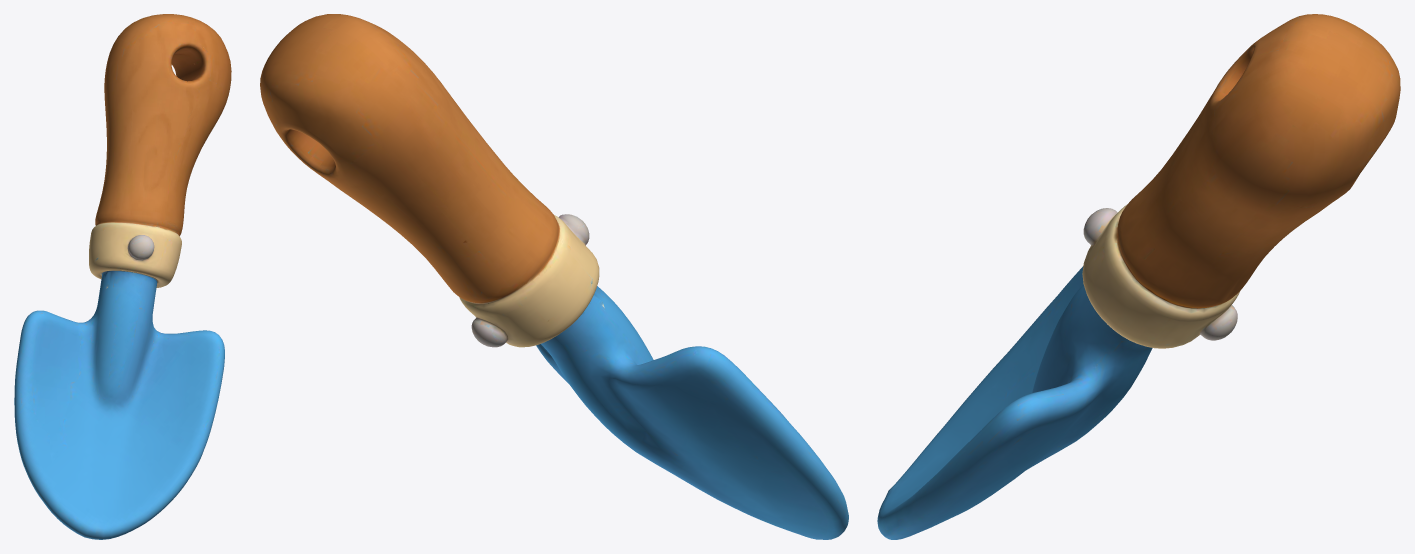
The picture shows the model from 3 angles, left to right: view 1: azimuth 30°, elevation 25°; view 2: azimuth 150°, elevation 25°; view 3: azimuth 270°, elevation 25°; orthographic projection. The views are drawn at different scales.
Visible parts, largest first — view 1: shovel; view 2: shovel; view 3: shovel.
Boxes of the visible parts, x1,y1,x2,y2 form: shovel: (14, 14, 231, 539); shovel: (260, 14, 848, 539); shovel: (877, 14, 1400, 539).
Bounding box in the file's own units: 0.6216 × 0.8 × 0.5831.
Materials: 1 (1 with a texture image).
